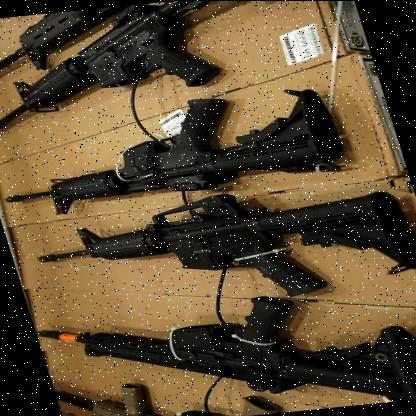rifle: (21, 175, 416, 316), (0, 96, 357, 221), (34, 288, 416, 394)
